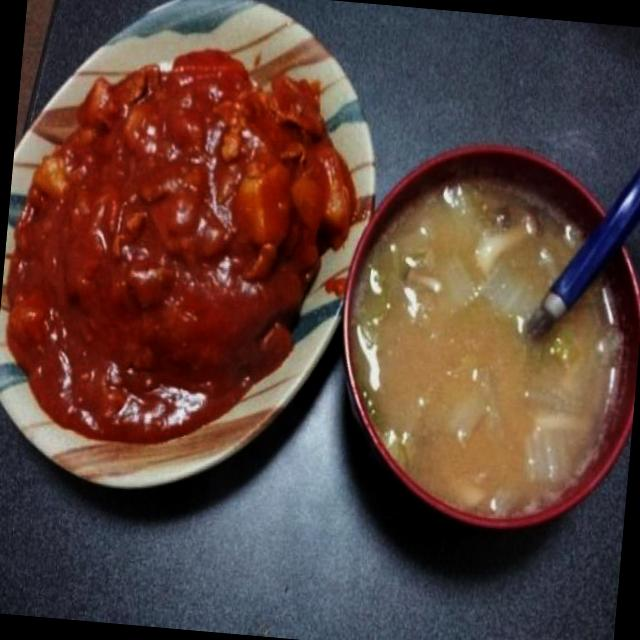Beef Curry: (1, 29, 330, 450)
